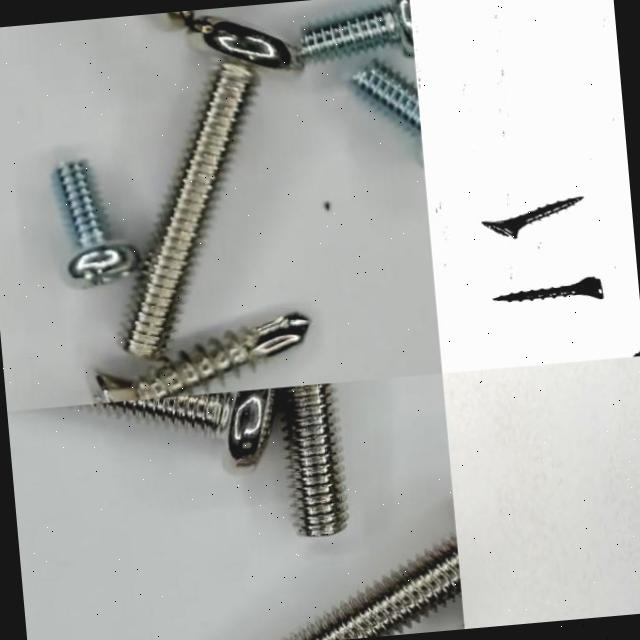Screw: (124, 20, 295, 361), (95, 313, 309, 403), (287, 536, 461, 640), (89, 388, 275, 467), (55, 161, 139, 287), (278, 383, 347, 536), (482, 196, 585, 238), (494, 277, 605, 301)
